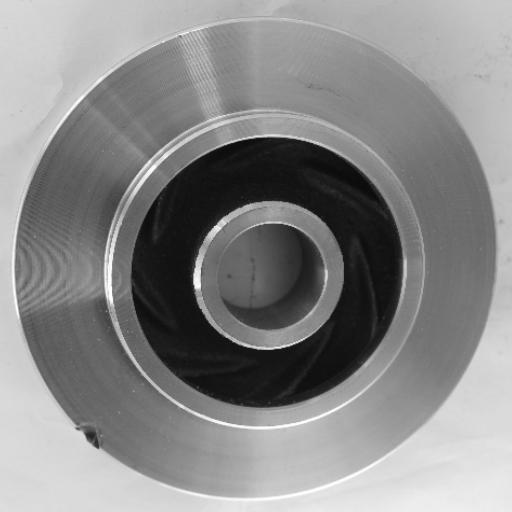crack: (58, 404, 121, 457)
unpolished_casting: (13, 15, 497, 504)
